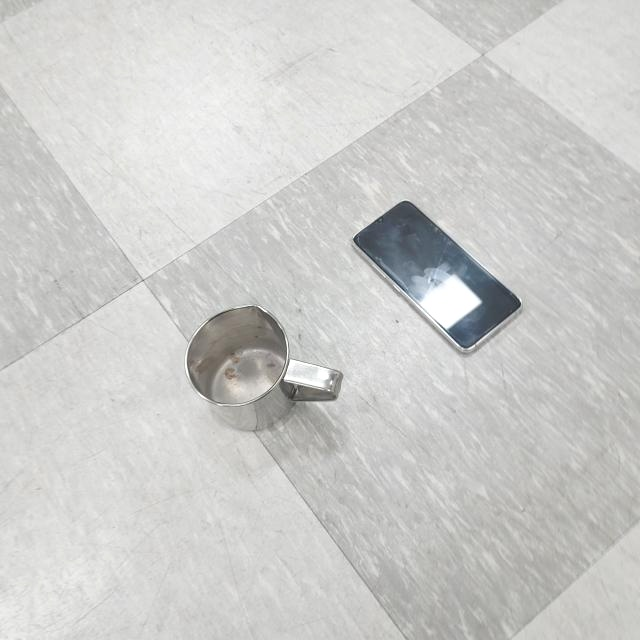cup: (185, 302, 349, 434)
phone: (352, 194, 522, 359)
